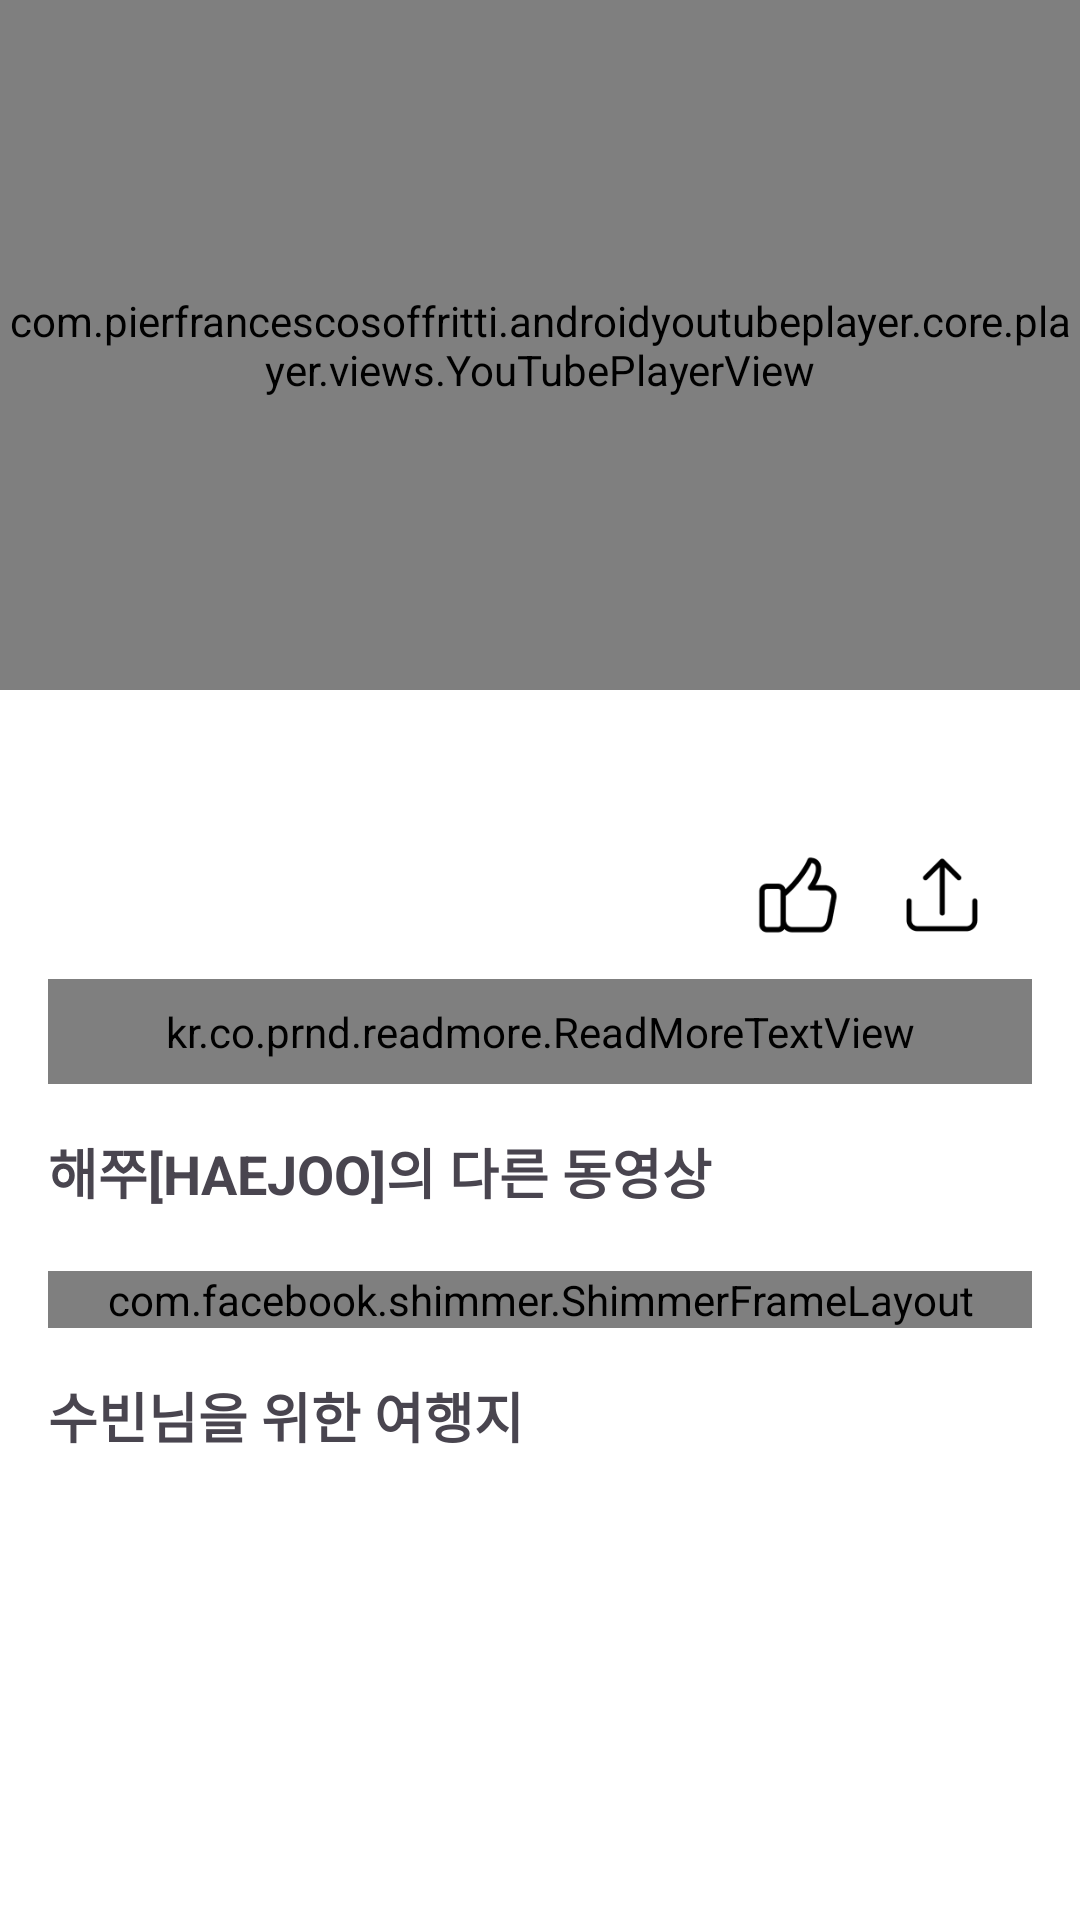

Where to tap for icons on this 1080*1920 app screen, as (x=x, y=y):
like empty: (x=798, y=895)
share: (x=942, y=895)
